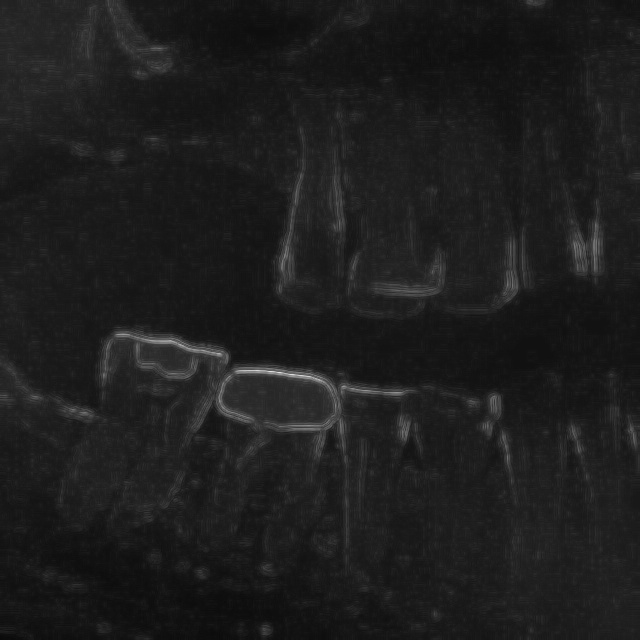Class 2- incomplete endodontic treatment: (205, 342, 346, 574)
cavity: (52, 302, 222, 548)
